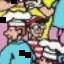waldo: (27, 15, 49, 37)
